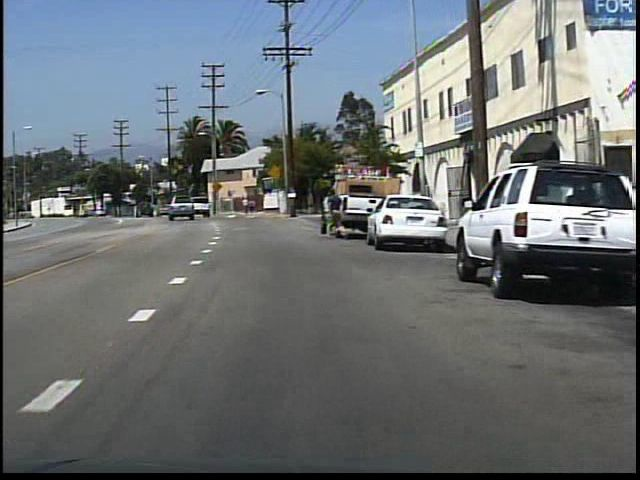person: (322, 185, 345, 242), (240, 195, 250, 217), (247, 196, 257, 215)
